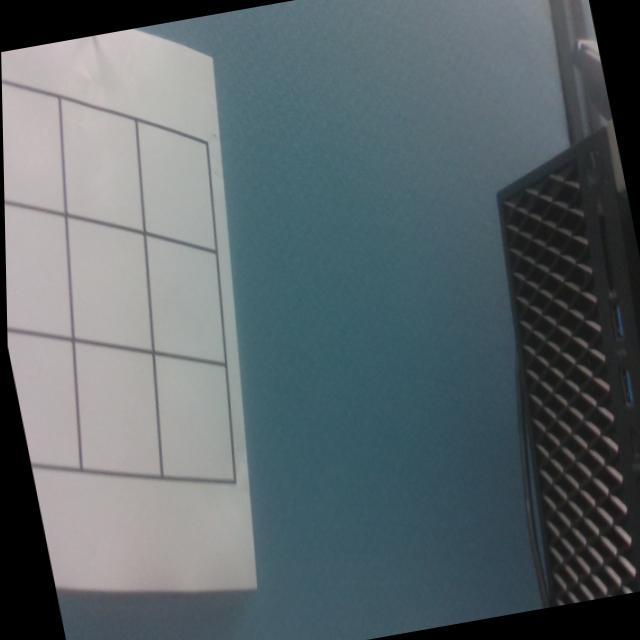null: (55, 329, 174, 493), (47, 205, 164, 368), (43, 85, 155, 246), (139, 343, 246, 496), (129, 225, 234, 378), (6, 316, 95, 482), (125, 112, 224, 261), (3, 192, 84, 350), (1, 67, 78, 225)
table: (0, 61, 235, 506)
